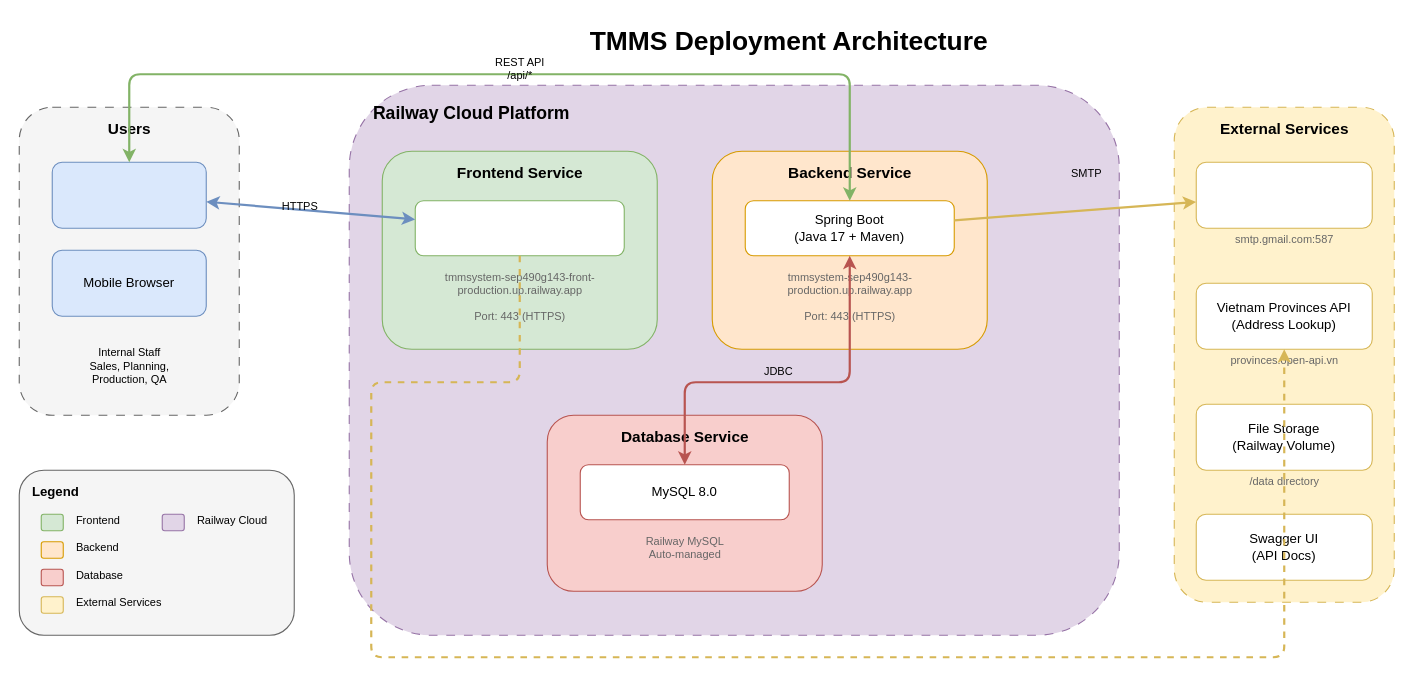
The diagram is 1414 pixels wide and 685 high, and some of its shapes have lost their labels. Each missing label, with the centre of its shape:
Browser (Chrome/Firefox): the point at 128,194
Gmail SMTP (Email Service): the point at 1283,194
React + Vite (JavaScript): the point at 519,228
